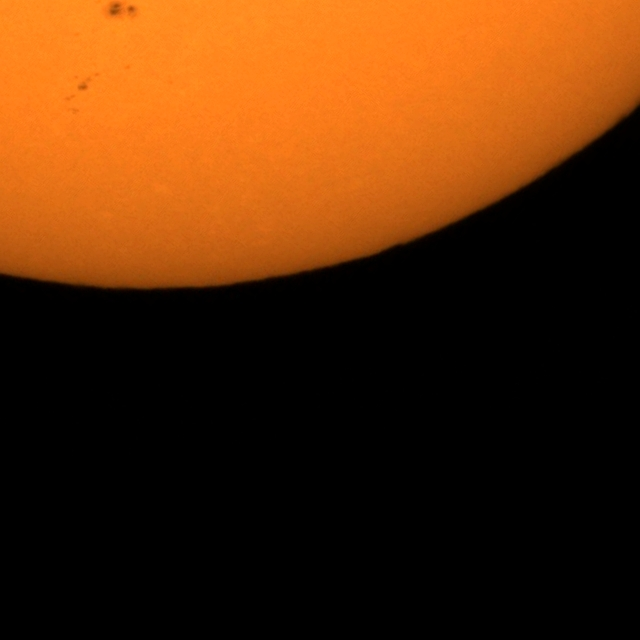sunspot: (63, 78, 93, 117), (70, 72, 99, 99), (106, 1, 140, 21)
